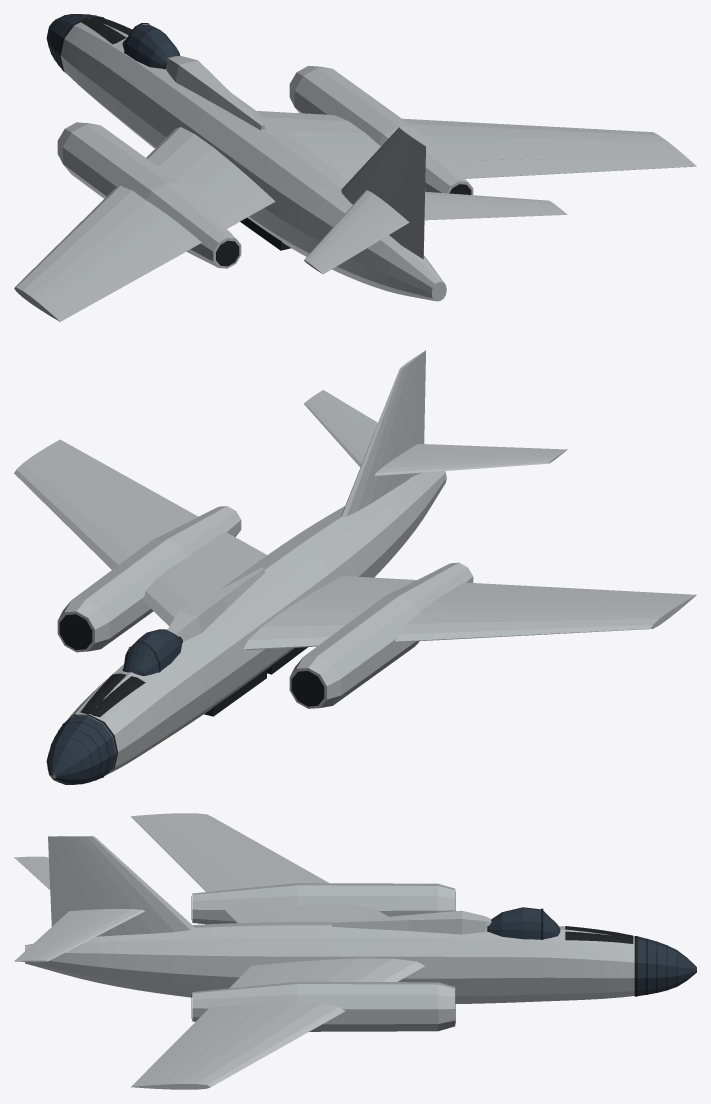
The model's file is vautour2b.glb.
3 renders of one model, top to bottom at view 1: azimuth 30°, elevation 25°; view 2: azimuth 150°, elevation 25°; view 3: azimuth 270°, elevation 25°, orthographic. The views are drawn at different scales.
Visible parts, largest first — view 1: Fuselage, Nacelles, Wing L, Wing R, Vertical Fin, Rudder, Stabilizer L, Dorsal Fairing, Flap L, Aileron R, Aileron L, Stabilizer R (+7 smaller); view 2: Fuselage, Nacelles, Wing L, Wing R, Vertical Fin, Nose Glass, Stabilizer L, Dorsal Fairing, Stabilizer R, Cockpit Glass, Rudder, Flap R (+9 smaller); view 3: Fuselage, Nacelles, Wing R, Wing L, Vertical Fin, Rudder, Dorsal Fairing, Nose Glass, Stabilizer R, Cockpit Glass, Aileron L, Flap L (+5 smaller).
Part boxes in pixels (bbox=[...]): Fuselage: bbox=[60, 18, 446, 301]; Nacelles: bbox=[57, 65, 473, 268]; Wing L: bbox=[14, 127, 275, 321]; Wing R: bbox=[257, 111, 696, 181]; Vertical Fin: bbox=[341, 127, 416, 210]; Rudder: bbox=[389, 139, 425, 259]; Stabilizer L: bbox=[304, 190, 394, 269]; Dorsal Fairing: bbox=[166, 56, 265, 130]; Flap L: bbox=[150, 186, 264, 261]; Aileron R: bbox=[521, 157, 678, 174]; Aileron L: bbox=[59, 252, 156, 315]; Stabilizer R: bbox=[425, 191, 560, 209]; Fuselage: bbox=[51, 471, 446, 778]; Nacelles: bbox=[57, 506, 473, 708]; Wing L: bbox=[243, 576, 696, 649]; Wing R: bbox=[14, 439, 267, 626]; Vertical Fin: bbox=[341, 357, 417, 516]; Nose Glass: bbox=[46, 716, 115, 784]; Stabilizer L: bbox=[374, 453, 561, 475]; Dorsal Fairing: bbox=[168, 567, 265, 641]; Stabilizer R: bbox=[304, 394, 373, 467]; Cockpit Glass: bbox=[122, 629, 182, 675]; Rudder: bbox=[396, 350, 425, 487]; Flap R: bbox=[150, 499, 264, 566]; Fuselage: bbox=[25, 921, 634, 1003]; Nacelles: bbox=[192, 883, 455, 1031]; Wing R: bbox=[131, 958, 424, 1089]; Wing L: bbox=[131, 813, 388, 921]; Vertical Fin: bbox=[64, 836, 194, 935]; Rudder: bbox=[48, 836, 105, 936]; Dorsal Fairing: bbox=[332, 910, 491, 934]; Nose Glass: bbox=[637, 936, 696, 995]; Stabilizer R: bbox=[25, 908, 144, 962]; Cockpit Glass: bbox=[489, 907, 560, 939]; Aileron L: bbox=[137, 820, 213, 870]; Flap L: bbox=[191, 874, 278, 922].
Size of the model in its own units: 15.1 by 4.33 by 16.1.
